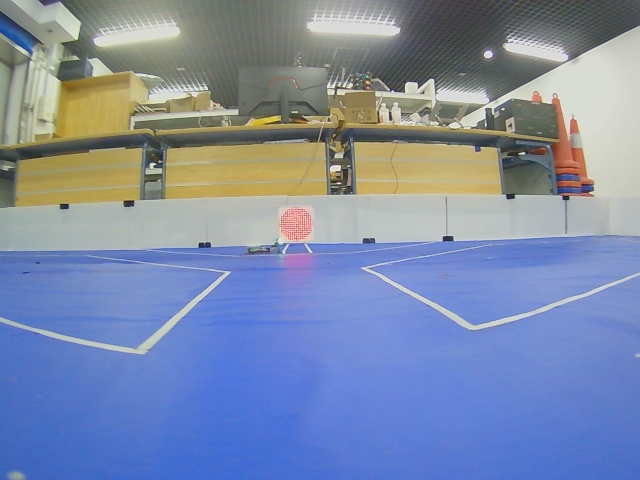red: (279, 207, 314, 242)
